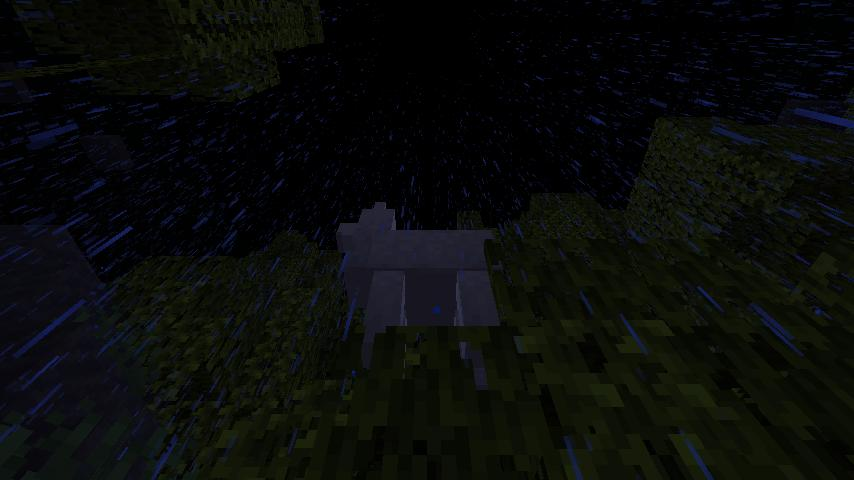llama: (332, 198, 524, 376)
